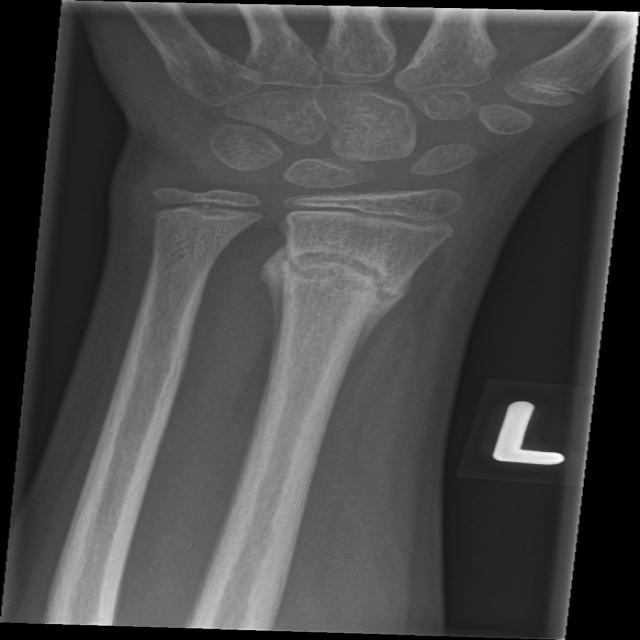radius fracture: (254, 226, 442, 396)
